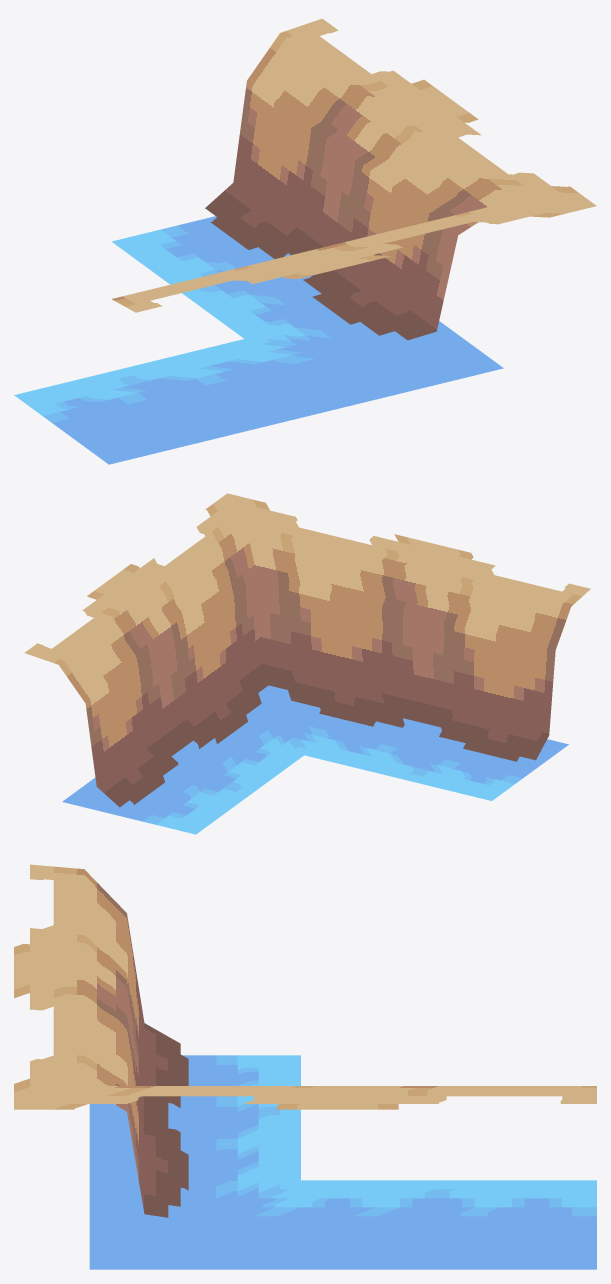
File: berge-mare-edition-angle-left-phase-1.glb
3 renders of one model, top to bottom at view 1: azimuth 30°, elevation 25°; view 2: azimuth 150°, elevation 25°; view 3: azimuth 270°, elevation 25°, orthographic. The views are drawn at different scales.
Bounding box in the file's own units: 1.72 × 0.627 × 1.72.
Materials: 2 (2 with a texture image).
